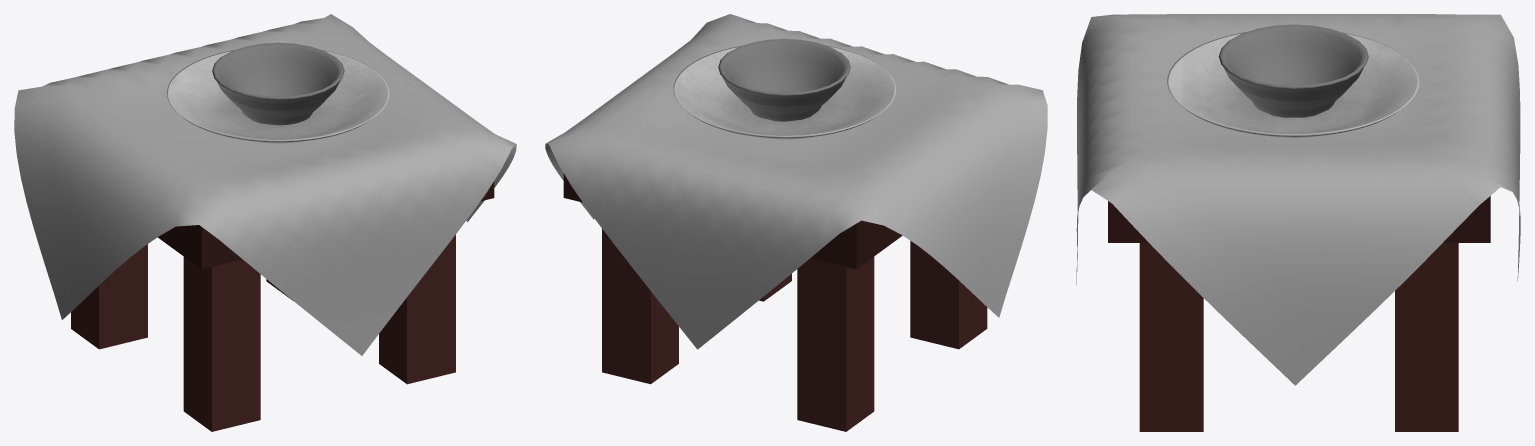
Rendered from platingstation.fbx.
3 views of the same model, side by side, from view 1: azimuth 30°, elevation 25°; view 2: azimuth 150°, elevation 25°; view 3: azimuth 270°, elevation 25° (orthographic). The views are drawn at different scales.
Visible parts, largest first — view 1: pPlane1, stations:leg4, stations:Plate, stations:Bowl, stations:leg3, stations:leg1, stations:tabletop; view 2: pPlane1, stations:leg1, stations:Plate, stations:Bowl, stations:leg2, stations:leg4, stations:tabletop; view 3: pPlane1, stations:Plate, stations:leg2, stations:leg3, stations:Bowl, stations:tabletop.
Boxes of the visible parts, x1,y1,x2,y2 form: pPlane1: (14, 14, 516, 355); stations:leg4: (183, 257, 260, 431); stations:Plate: (167, 50, 389, 143); stations:Bowl: (212, 42, 344, 125); stations:leg3: (379, 234, 455, 384); stations:leg1: (71, 244, 147, 349); stations:tabletop: (157, 181, 494, 269); pPlane1: (545, 14, 1047, 349); stations:leg1: (797, 257, 874, 431); stations:Plate: (673, 45, 896, 139); stations:Bowl: (718, 39, 850, 121); stations:leg2: (602, 229, 678, 384); stations:leg4: (910, 241, 987, 349); stations:tabletop: (563, 173, 902, 269); pPlane1: (1076, 14, 1520, 385); stations:Plate: (1167, 32, 1419, 137); stations:leg2: (1395, 243, 1458, 431); stations:leg3: (1139, 243, 1203, 431); stations:Bowl: (1218, 24, 1368, 117); stations:tabletop: (1108, 196, 1490, 242).
Bounding box in the file's own units: 41.51 × 27.37 × 34.85.
